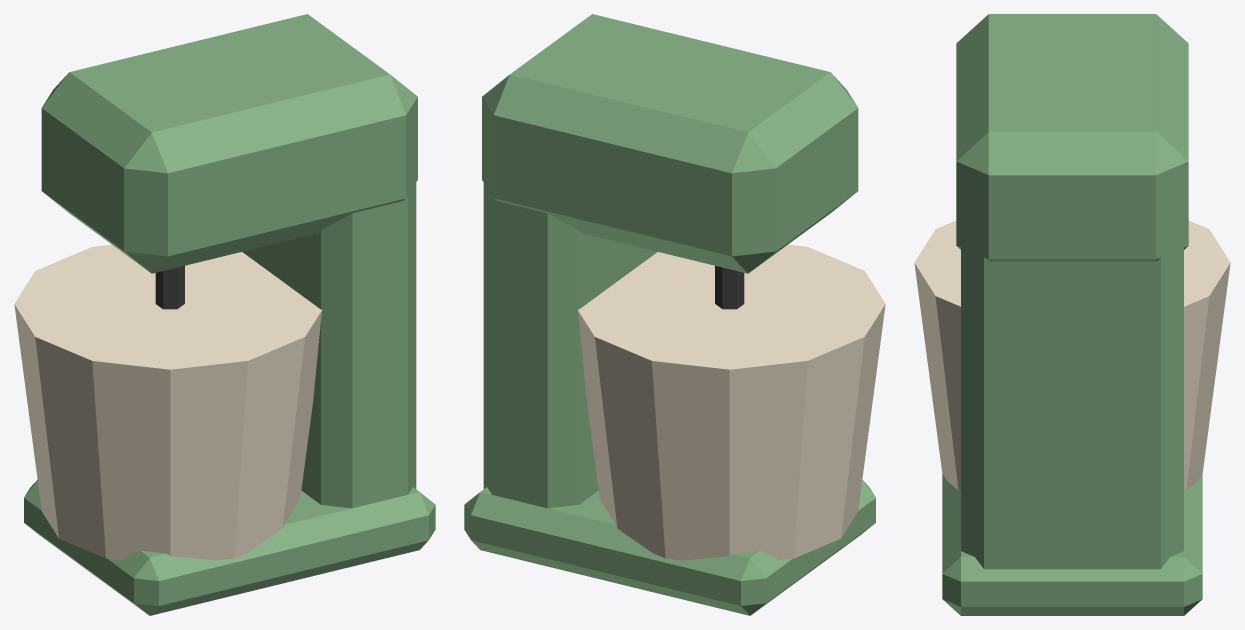
3 views of the same model, side by side, from view 1: azimuth 30°, elevation 25°; view 2: azimuth 150°, elevation 25°; view 3: azimuth 270°, elevation 25° (orthographic).
Parts seen in each view (by area): view 1: Bowl, Mixer head, Motor post, Base, Mixer shaft; view 2: Bowl, Mixer head, Motor post, Base, Mixer shaft; view 3: Motor post, Mixer head, Bowl, Base.
Boxes of the visible parts, x1,y1,x2,y2 form: Bowl: (14,244,322,560); Mixer head: (41,14,417,273); Motor post: (242,120,416,508); Base: (24,480,435,615); Mixer shaft: (155,266,184,309); Bowl: (577,244,885,560); Mixer head: (482,14,858,273); Motor post: (483,183,657,508); Base: (464,480,875,615); Mixer shaft: (715,266,744,309); Motor post: (961,185,1183,569); Mixer head: (956,14,1188,261); Bowl: (914,220,1230,490); Base: (942,474,1202,615).
Bounding box in the file's own units: 0.435 × 0.565 × 0.34.
Materials: 1 (1 with a texture image).
